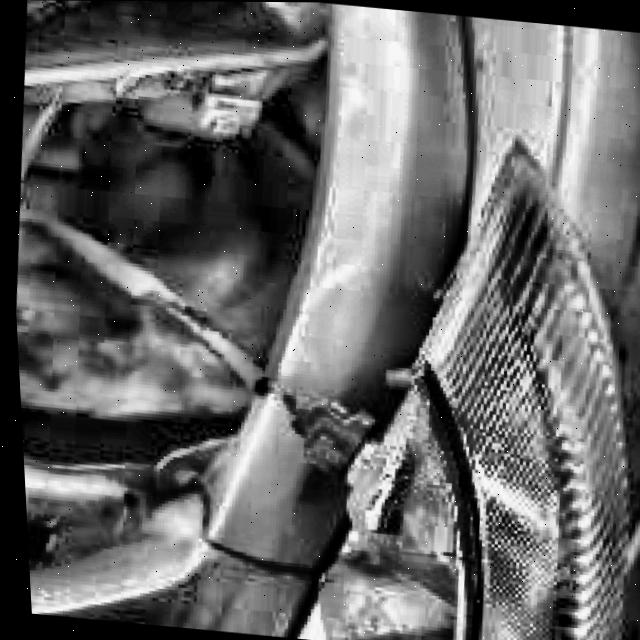head_lamp: (0, 0, 285, 472)
